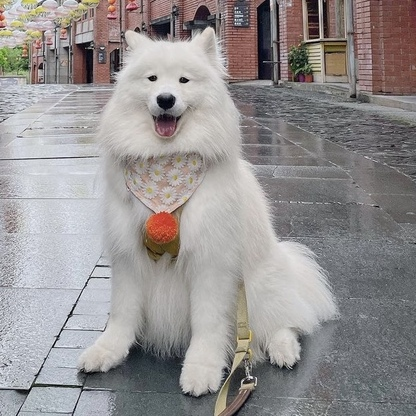samoyed: (71, 20, 346, 402)
